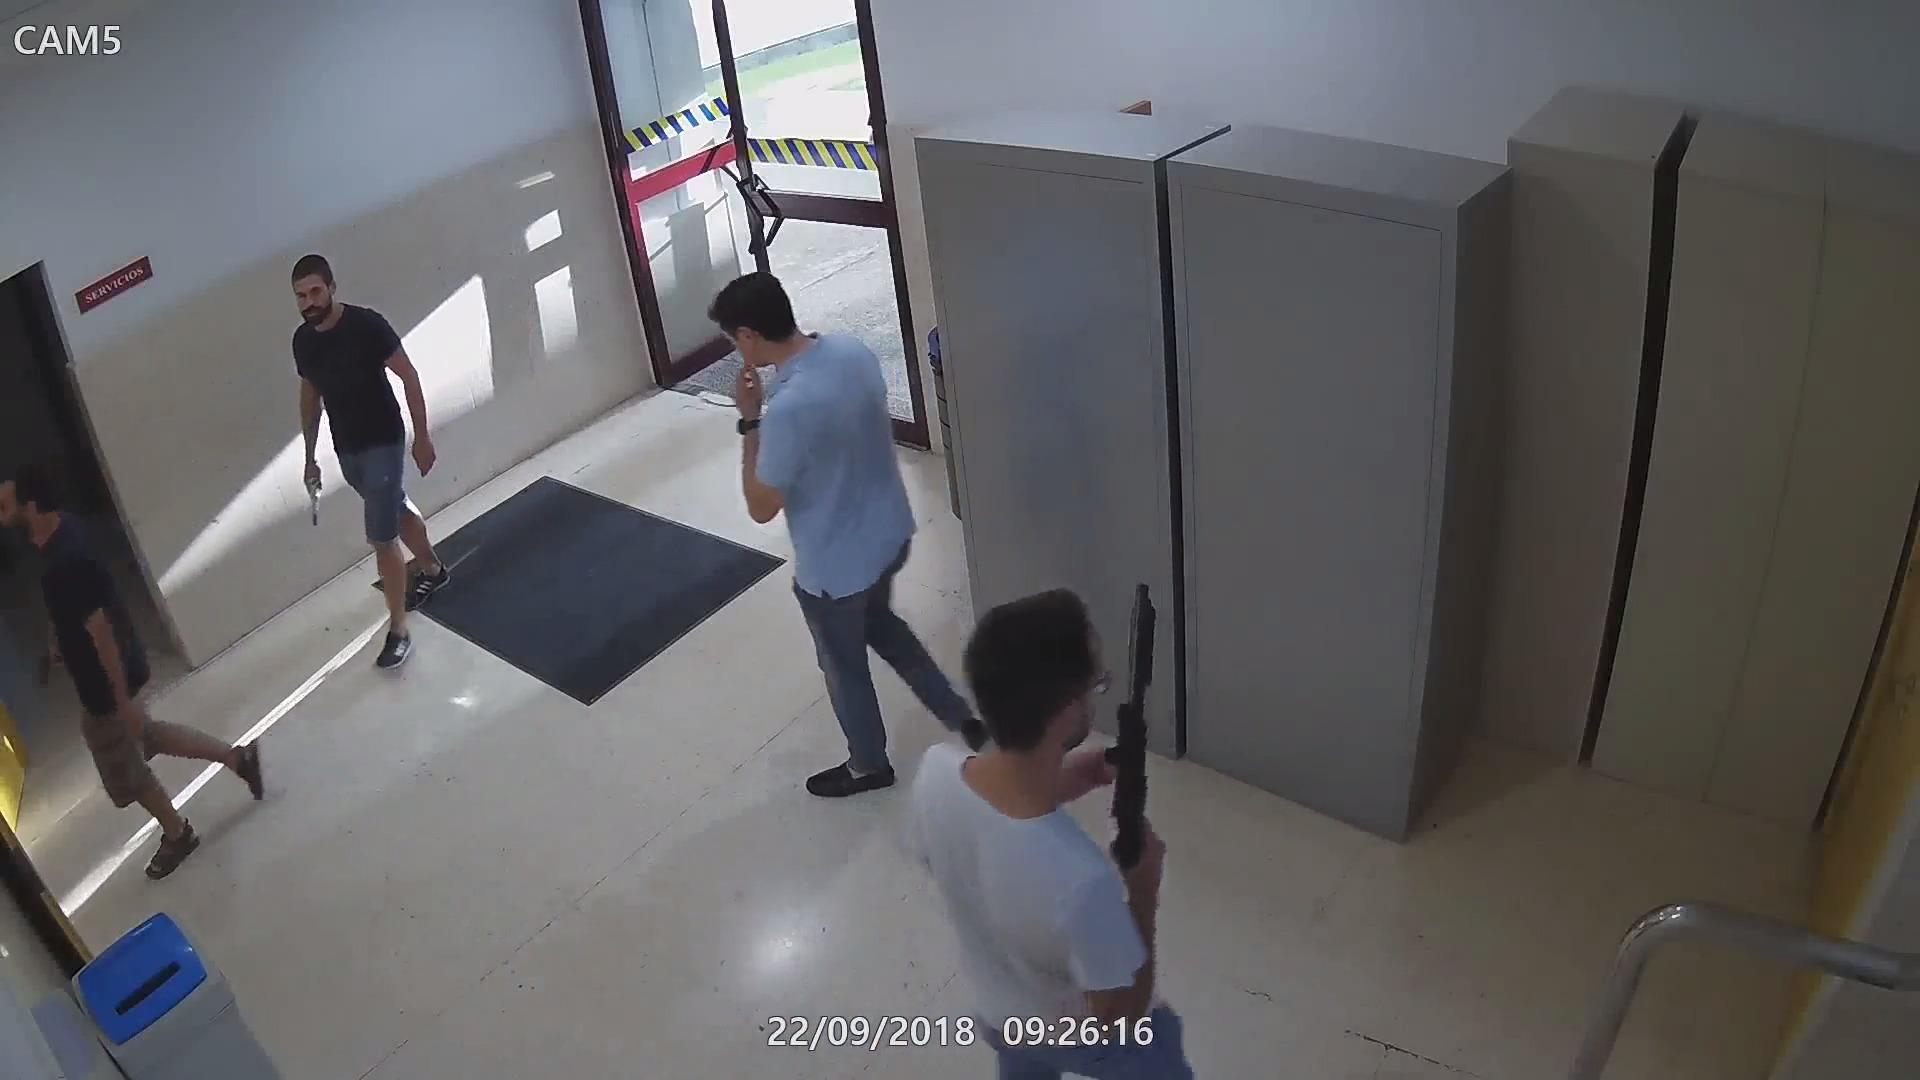Handgun: (298, 455, 326, 527), (30, 642, 67, 695)
